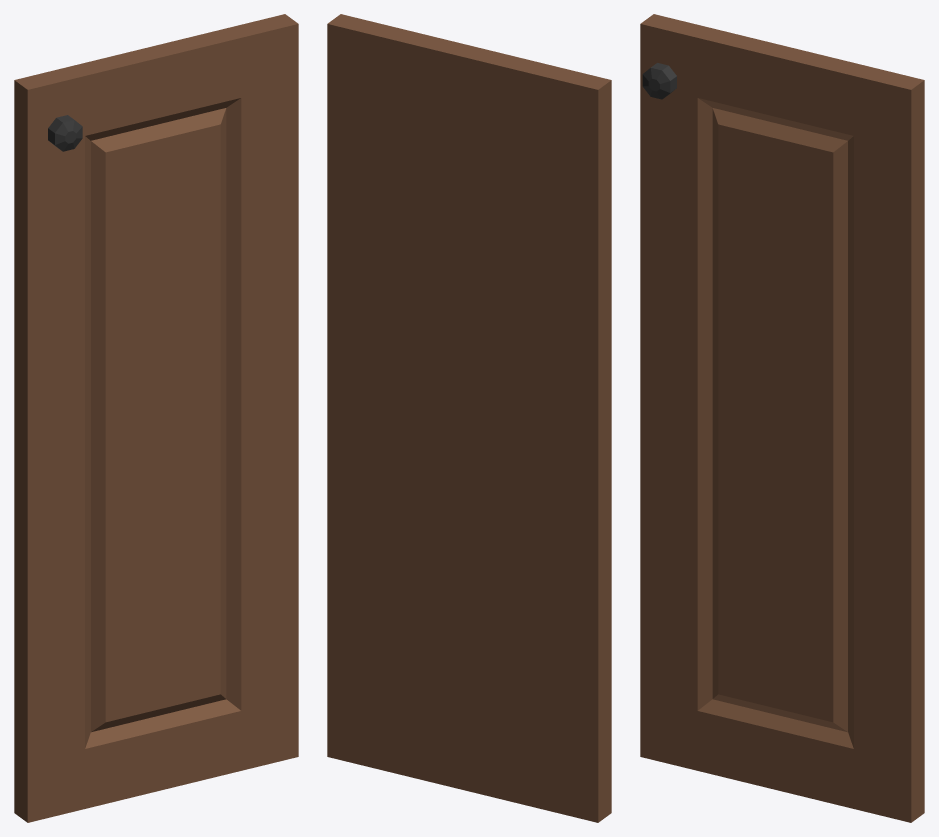
File: Door3_C2_03.fbx
3 views of the same model, side by side, from view 1: azimuth 30°, elevation 25°; view 2: azimuth 150°, elevation 25°; view 3: azimuth 330°, elevation 25° (orthographic).
Parts seen in each view (by area): view 1: Door3_C2_03; view 2: Door3_C2_03; view 3: Door3_C2_03.
Boxes of the visible parts, bbox=[...] form: Door3_C2_03: bbox=[14, 14, 298, 822]; Door3_C2_03: bbox=[327, 14, 611, 822]; Door3_C2_03: bbox=[640, 14, 924, 822].
Size of the model in its own units: 29 by 75 by 5.19.
